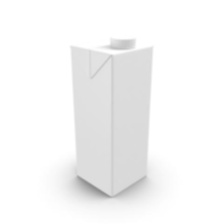carton: (64, 30, 159, 202)
